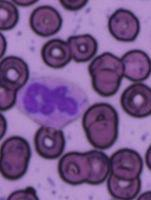N: (14, 75, 88, 129)
